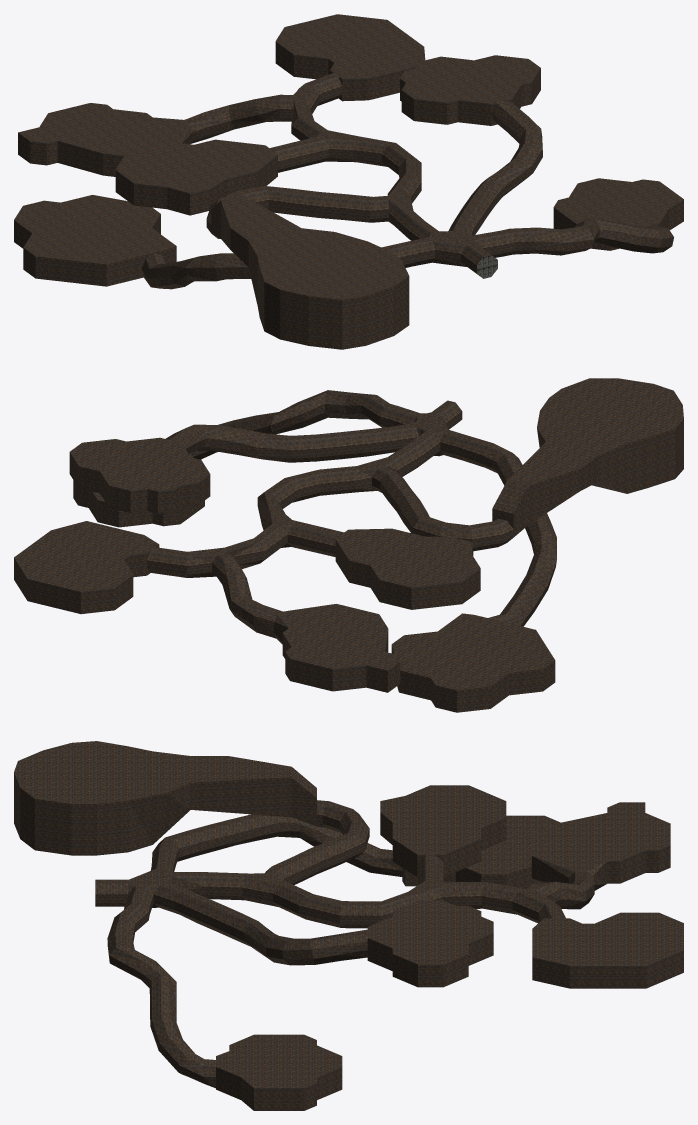
Rendered from D20.Blv.obj.
3 views of the same model, one above another, from view 1: azimuth 30°, elevation 25°; view 2: azimuth 150°, elevation 25°; view 3: azimuth 270°, elevation 25° (orthographic). The views are drawn at different scales.
Parts seen in each view (by area): view 1: Room5, Room3, Room7, Room1, Room2, Room4, Room8, Room18, Room6, Room12, Room10, Room9 (+8 smaller); view 2: Room5, Room3, Room1, Room7, Room4, Room2, Room6, Room14, Room18, Room19, Room20, Room13 (+8 smaller); view 3: Room5, Room1, Room4, Room7, Room2, Room8, Room6, Room19, Room17, Room3, Room18, Room11 (+8 smaller).
Part boxes in pixels (bbox=[...]): Room5: bbox=[248, 228, 409, 349]; Room3: bbox=[14, 195, 176, 286]; Room7: bbox=[115, 139, 277, 215]; Room1: bbox=[275, 14, 425, 101]; Room2: bbox=[400, 55, 540, 125]; Room4: bbox=[18, 103, 192, 176]; Room8: bbox=[553, 178, 683, 250]; Room18: bbox=[206, 186, 388, 232]; Room6: bbox=[211, 195, 301, 266]; Room12: bbox=[408, 219, 507, 278]; Room10: bbox=[269, 130, 394, 172]; Room9: bbox=[184, 94, 293, 143]; Room5: bbox=[537, 378, 683, 493]; Room3: bbox=[391, 613, 555, 712]; Room1: bbox=[14, 521, 159, 614]; Room7: bbox=[335, 528, 480, 609]; Room4: bbox=[273, 604, 400, 692]; Room2: bbox=[69, 437, 210, 513]; Room6: bbox=[492, 442, 599, 537]; Room14: bbox=[257, 423, 418, 462]; Room18: bbox=[372, 466, 513, 551]; Room19: bbox=[265, 443, 423, 508]; Room20: bbox=[147, 524, 287, 577]; Room13: bbox=[271, 390, 398, 433]; Room5: bbox=[14, 741, 190, 855]; Room1: bbox=[532, 912, 683, 988]; Room4: bbox=[531, 802, 670, 890]; Room7: bbox=[380, 785, 506, 877]; Room2: bbox=[367, 900, 493, 987]; Room8: bbox=[216, 1034, 342, 1110]; Room6: bbox=[190, 756, 316, 826]; Room19: bbox=[205, 872, 380, 928]; Room17: bbox=[150, 814, 299, 871]; Room3: bbox=[402, 815, 560, 888]; Room18: bbox=[265, 800, 369, 884]; Room11: bbox=[149, 974, 215, 1088].
Size of the model in its own units: 13312 by 2688 by 13584.
43 materials, 43 textured.
